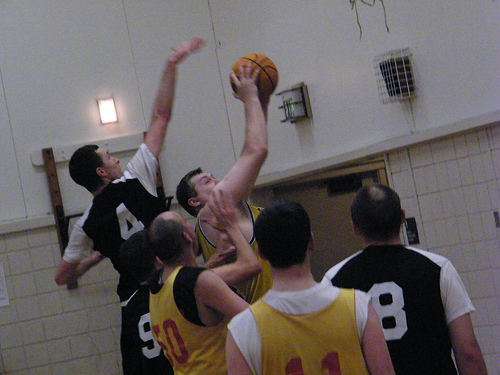basketball: (230, 52, 278, 101)
